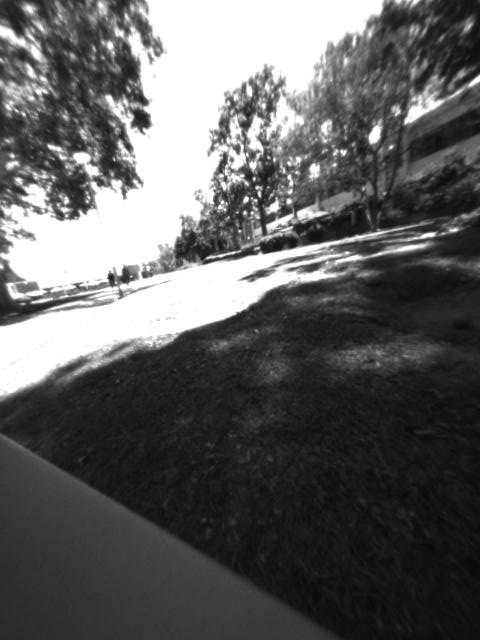dogtoy: (442, 304, 472, 337)
